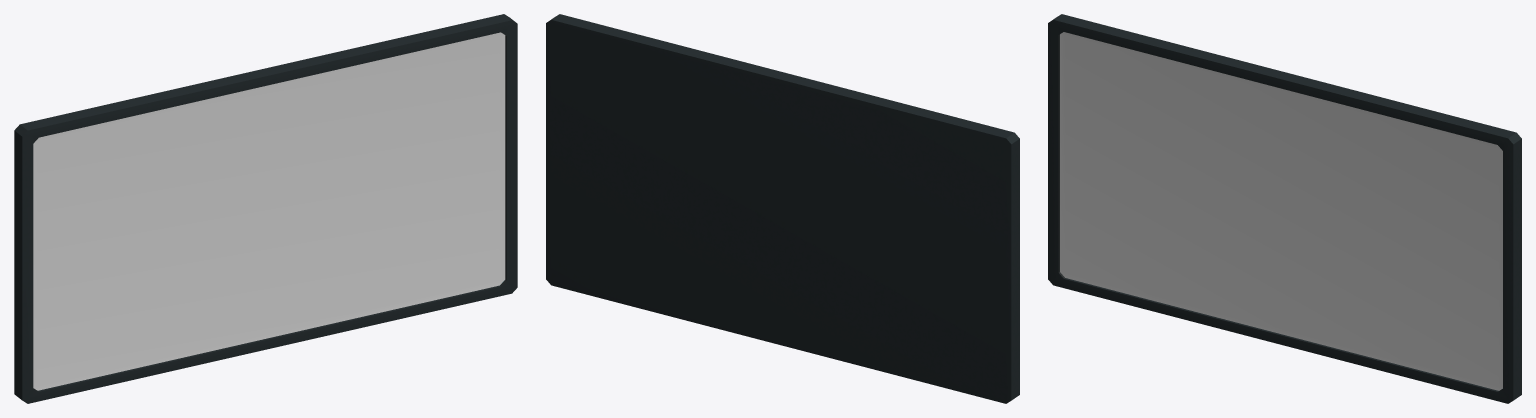
The picture shows the model from 3 angles, left to right: view 1: azimuth 30°, elevation 25°; view 2: azimuth 150°, elevation 25°; view 3: azimuth 330°, elevation 25°; orthographic projection. The views are drawn at different scales.
Visible parts, largest first — view 1: TV1; view 2: TV1; view 3: TV1.
Part boxes in pixels (box(x1,y1,x2,y2)): TV1: box(14, 14, 517, 403); TV1: box(546, 14, 1019, 403); TV1: box(1048, 14, 1521, 403).
Size of the model in its own units: 392 by 210 by 23.1.
